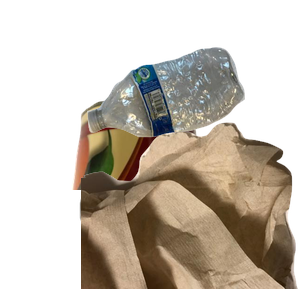glass: (77, 178, 205, 300)
metal: (69, 93, 265, 273)
plastic: (85, 45, 300, 175)
trash: (81, 120, 300, 300)
